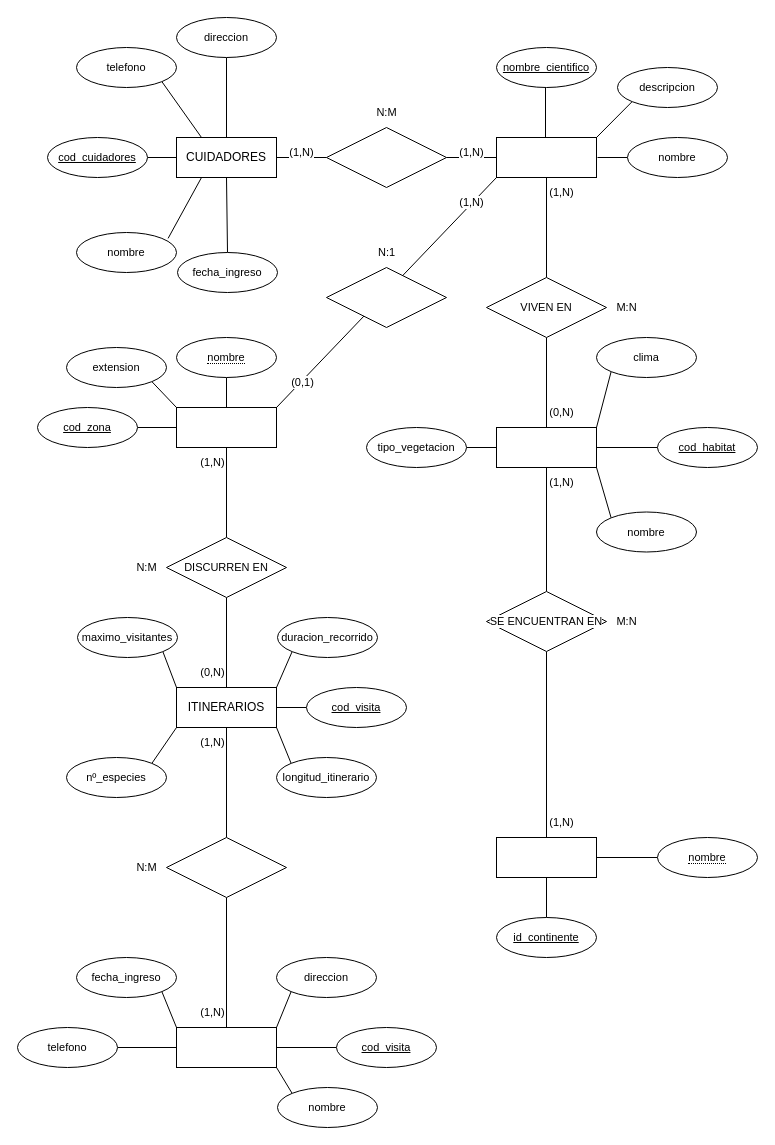
The diagram is 775 pixels wide and 1145 high, and some of its shapes have lost their labels. The box of each missing label's shape, as (x1, y1, x2, y2) in pixels:
CONTINENTES: (496, 836, 596, 878)
ESPECIES: (496, 136, 596, 178)
ESTÁN EN: (326, 266, 446, 328)
GUÍAS: (176, 1026, 276, 1068)
HÁBITATS: (496, 426, 596, 468)
LLEVAN A CABO: (166, 836, 286, 898)
SE ENCARGAN DE: (326, 126, 446, 188)
ZONAS: (176, 406, 276, 448)
